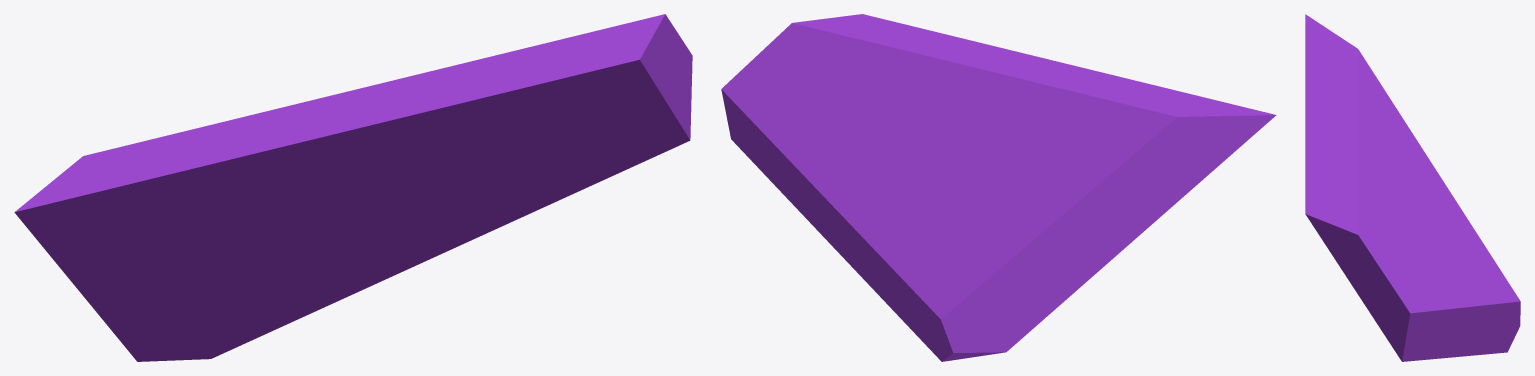
The model's file is Window_127_0_chunks.fbx.
The picture shows the model from 3 angles, left to right: view 1: azimuth 30°, elevation 25°; view 2: azimuth 150°, elevation 25°; view 3: azimuth 270°, elevation 25°; orthographic projection. The views are drawn at different scales.
Visible parts, largest first — view 1: Window_127_0_1, Window_127_0_6, Window_127_0_0, Window_127_0_2, Window_127_0_4, Window_127_0_5; view 2: Window_127_0_0, Window_127_0_2, Window_127_0_6, Window_127_0_1, Window_127_0_4, Window_127_0_3, Window_127_0_5; view 3: Window_127_0_2, Window_127_0_1, Window_127_0_6, Window_127_0_0, Window_127_0_4, Window_127_0_3.
Part boxes in pixels (box(x1,y1,x2,y2)): Window_127_0_1: box(316, 51, 692, 310); Window_127_0_6: box(14, 95, 381, 245); Window_127_0_0: box(73, 233, 342, 361); Window_127_0_2: box(392, 14, 689, 178); Window_127_0_4: box(282, 81, 522, 244); Window_127_0_5: box(42, 192, 286, 283); Window_127_0_0: box(877, 171, 1146, 361); Window_127_0_2: box(729, 14, 973, 203); Window_127_0_6: box(1013, 55, 1276, 172); Window_127_0_1: box(721, 82, 903, 312); Window_127_0_4: box(940, 33, 1032, 171); Window_127_0_3: box(973, 126, 1122, 195); Window_127_0_5: box(1108, 167, 1216, 228); Window_127_0_2: box(1305, 147, 1454, 304); Window_127_0_1: box(1345, 263, 1488, 361); Window_127_0_6: box(1305, 14, 1398, 148); Window_127_0_0: box(1414, 136, 1520, 354); Window_127_0_4: box(1305, 128, 1424, 207); Window_127_0_3: box(1387, 113, 1423, 202).
Bounding box in the file's own units: 951 × 414 × 357.
